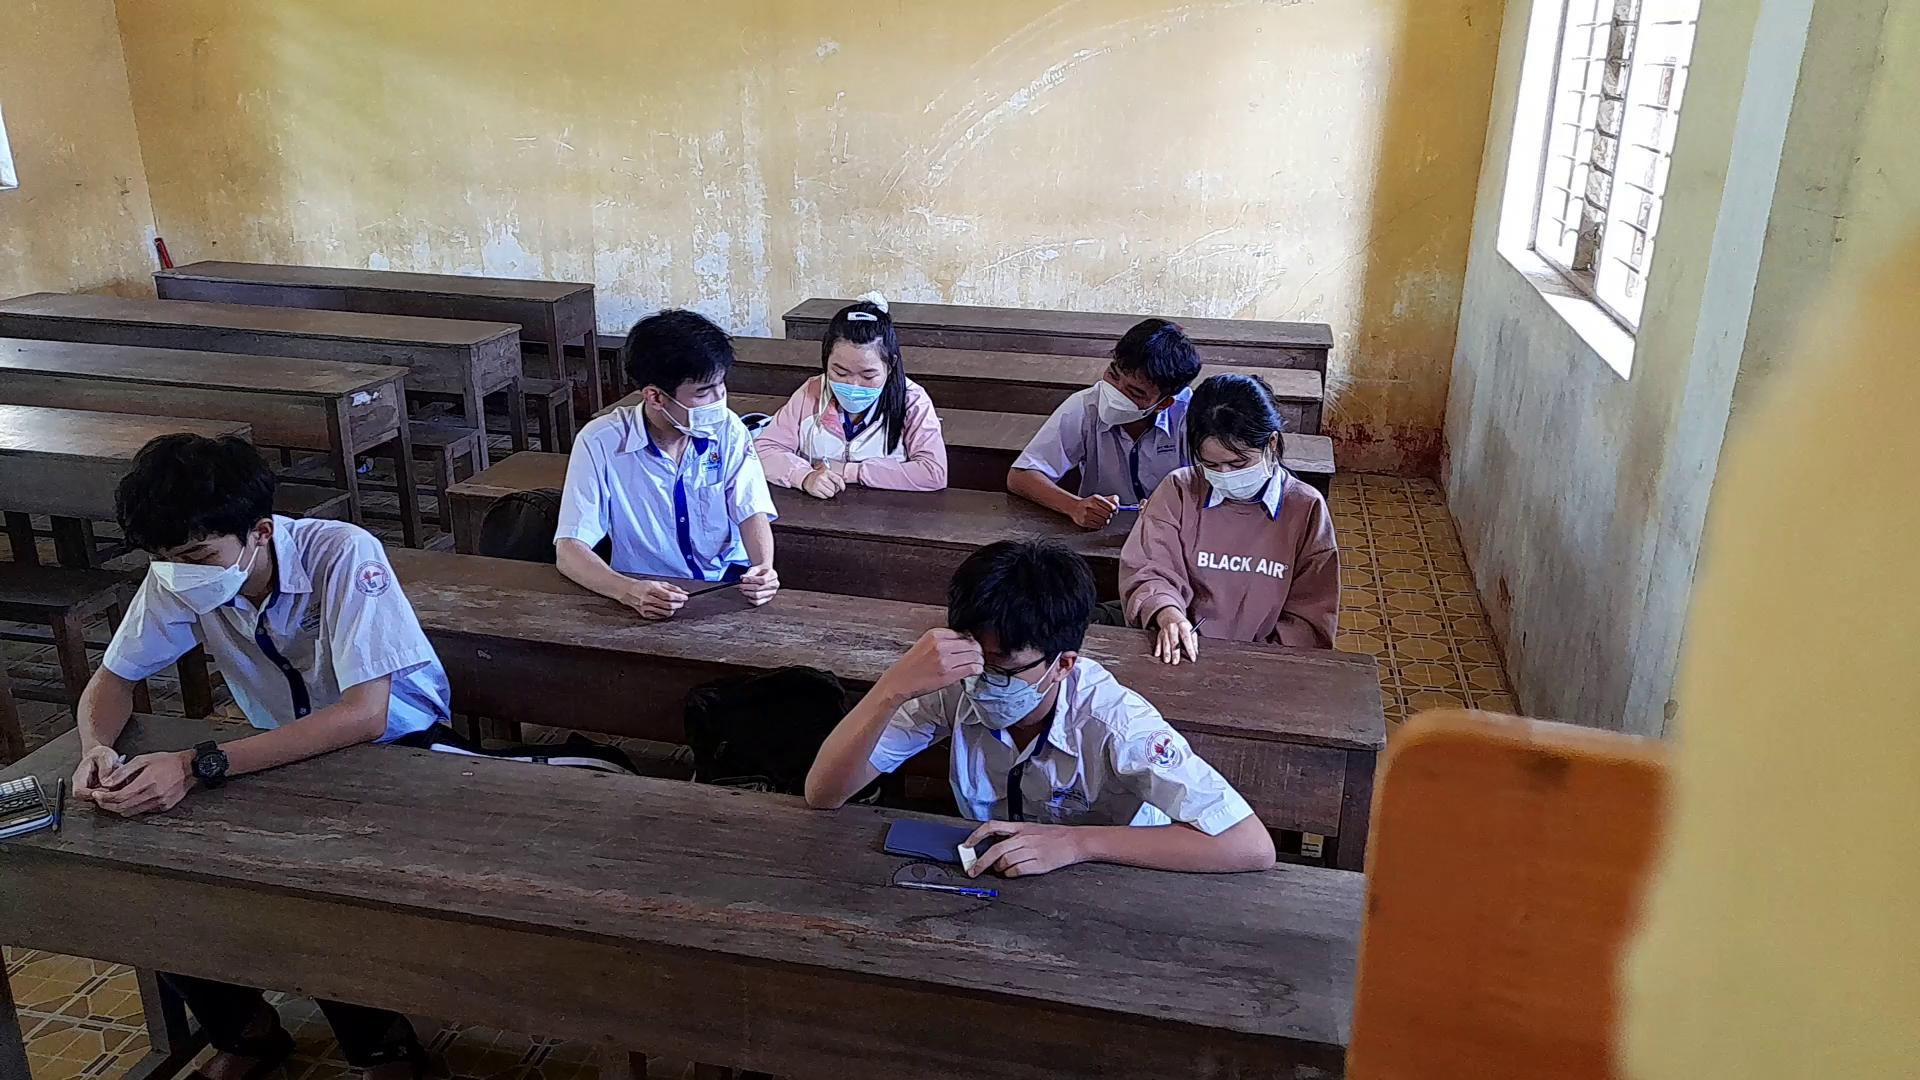Bend Over The Desk: (1170, 371, 1295, 505)
Hand Under Table: (1257, 491, 1360, 655)
Look Around: (618, 305, 735, 443), (1091, 314, 1201, 434)
Normal: (66, 422, 459, 822), (749, 276, 957, 517)
Wave: (802, 611, 978, 814)
